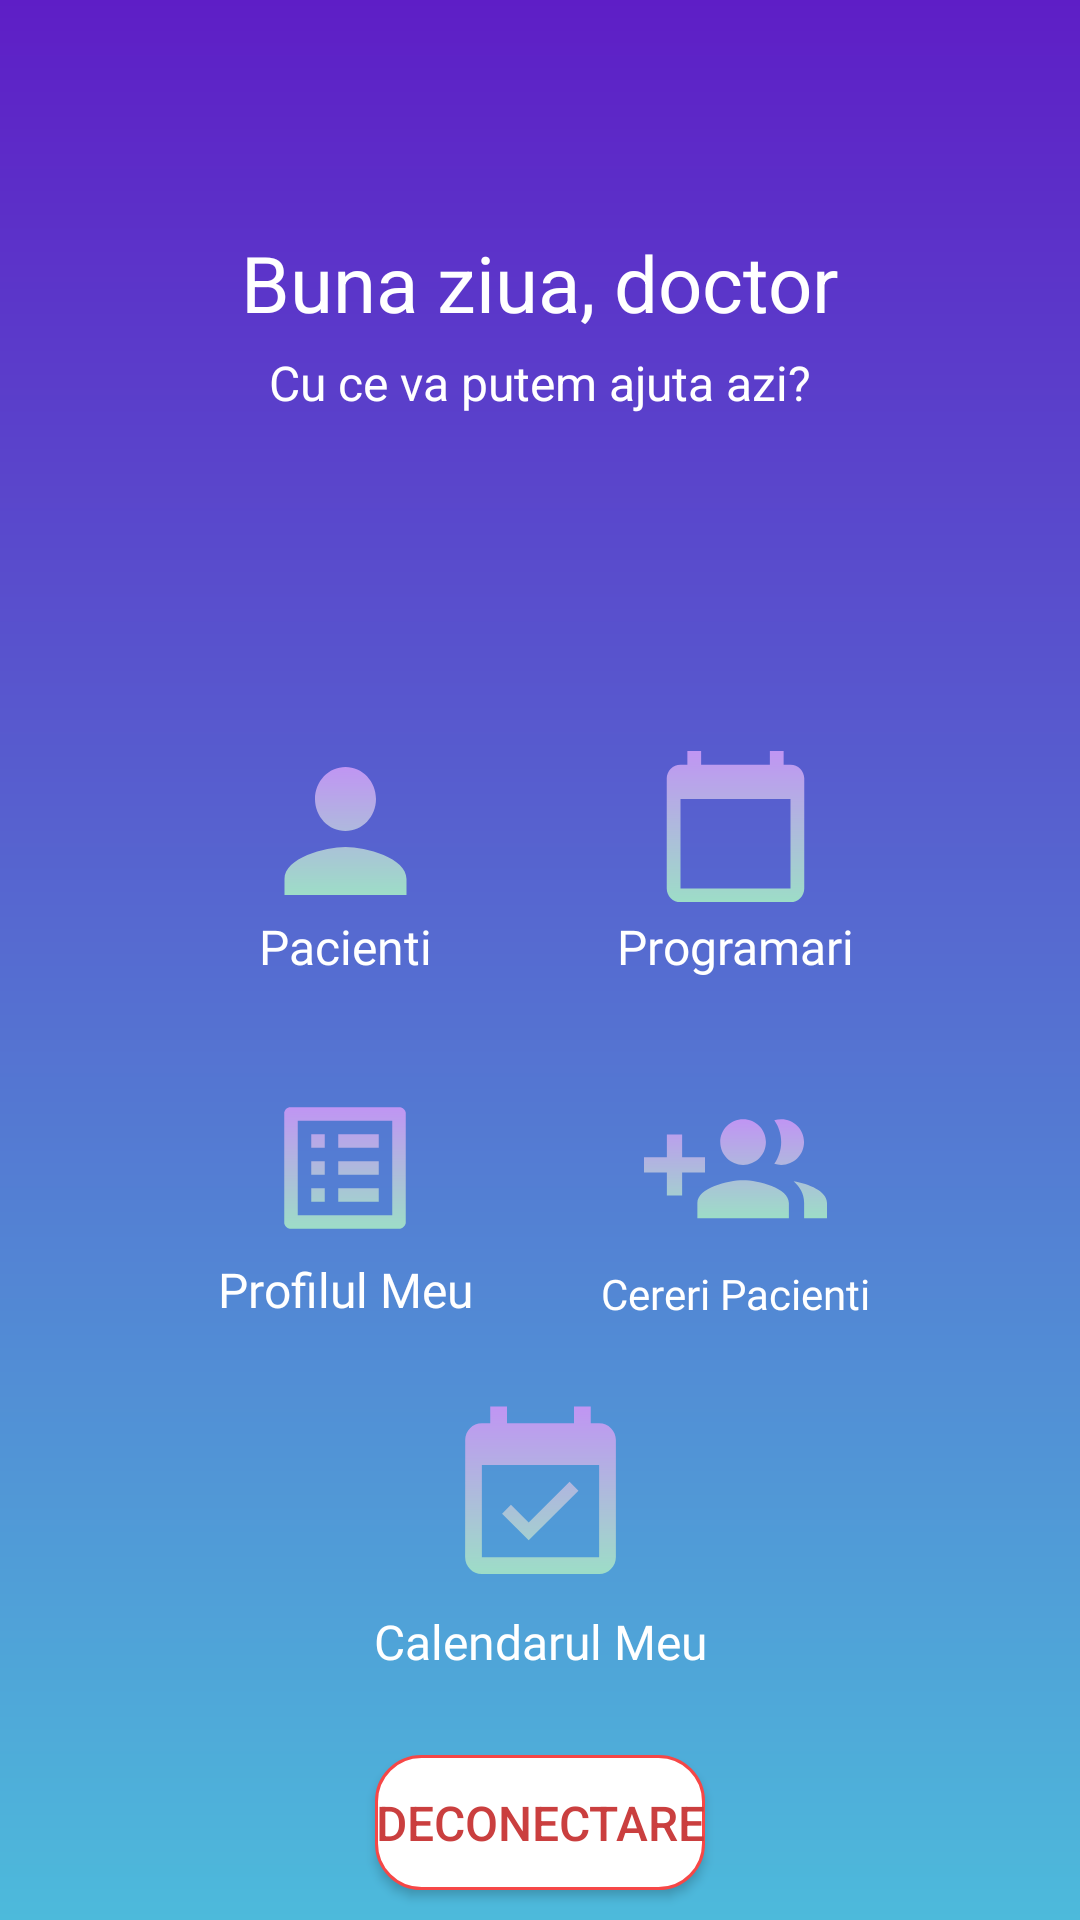

Screen size 1080 × 1920. Icon name, then its box in pixels as detection(x1, y1, x2, y2):
person: detection(284, 767, 407, 895)
